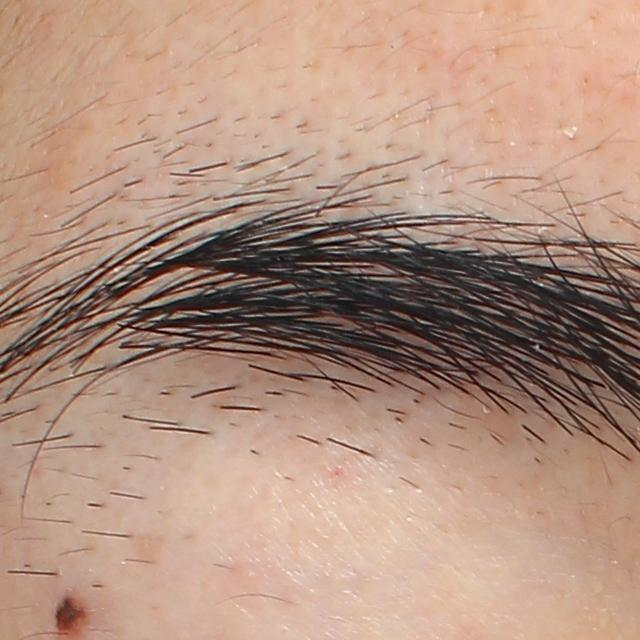nevus: (52, 592, 90, 639)
